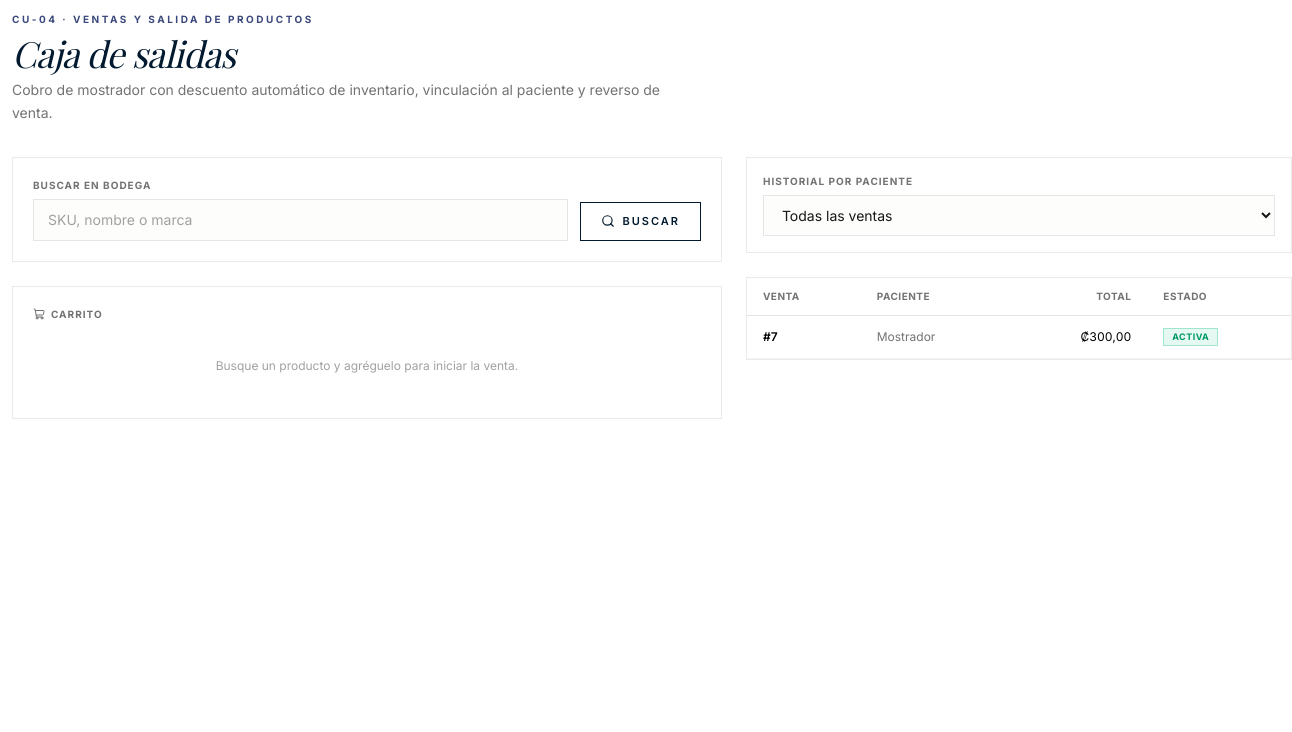
VentasPage › los botones de cantidad suman y restan
Type "ray" into the field labelled "Buscar en bodega" at (300, 220), box [33,198,568,240]
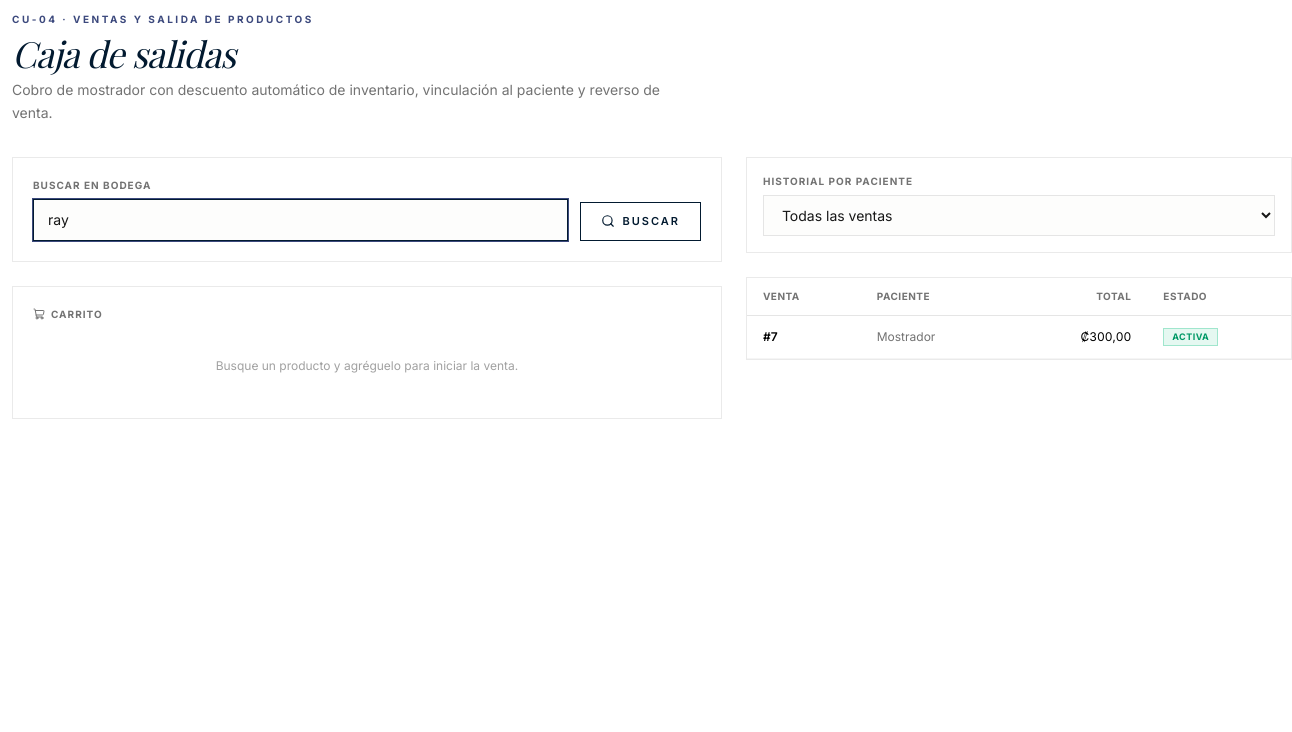
Click the button "Buscar" at (640, 221), box [580,202,701,240]
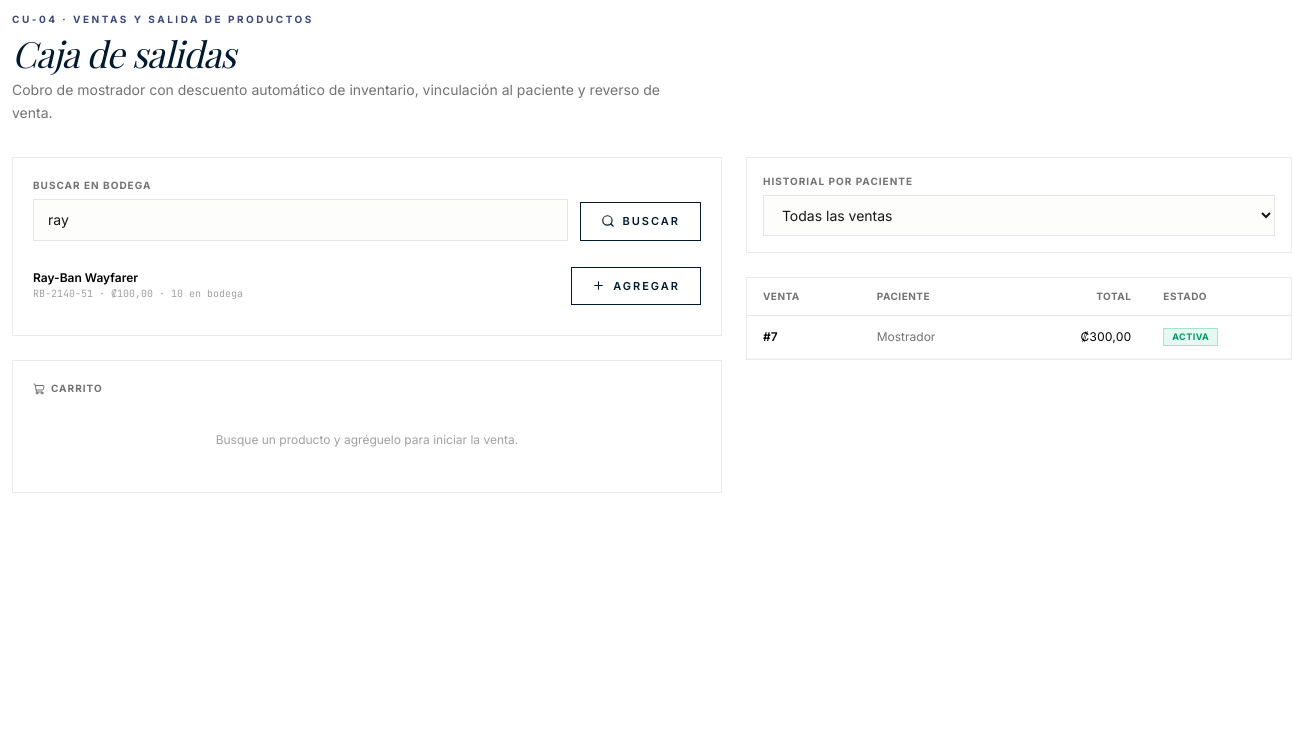
Click the button "Agregar" at (636, 286), box [571,266,701,305]
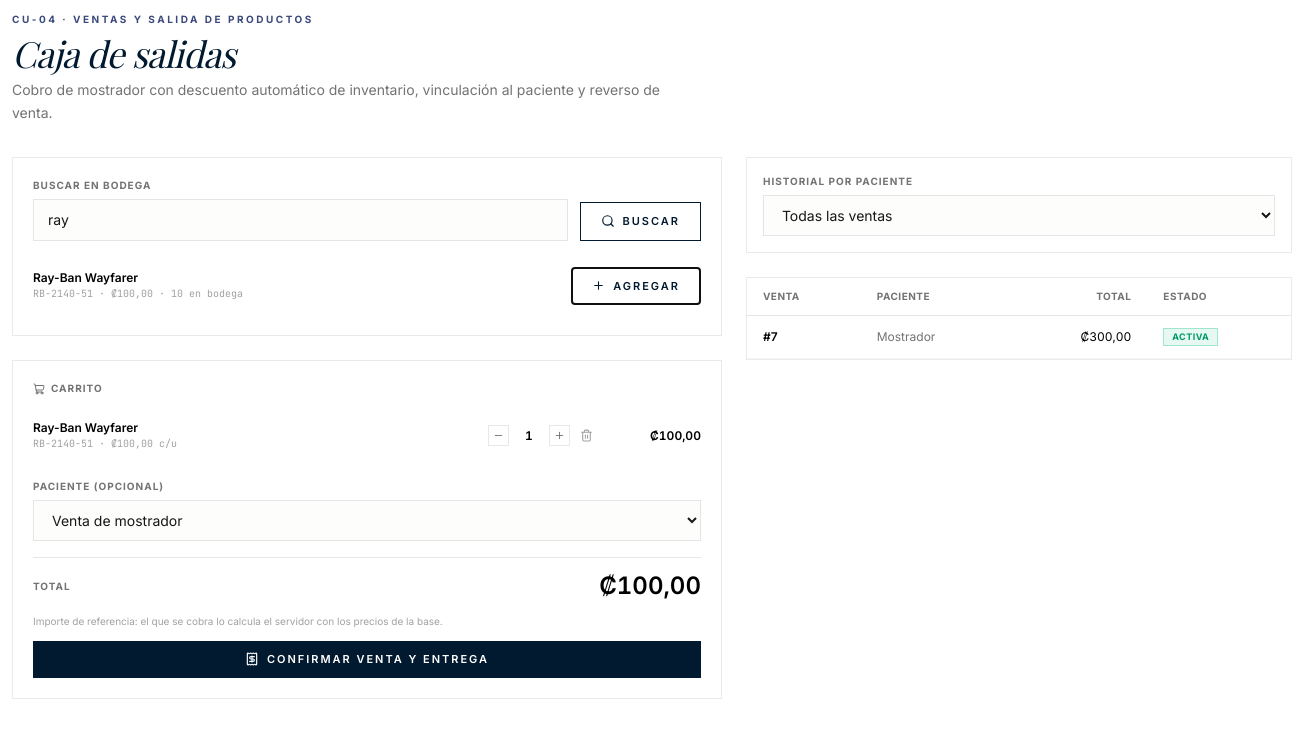
Click the button named "Agregar una unidad" at (559, 436), box [549,425,570,446]
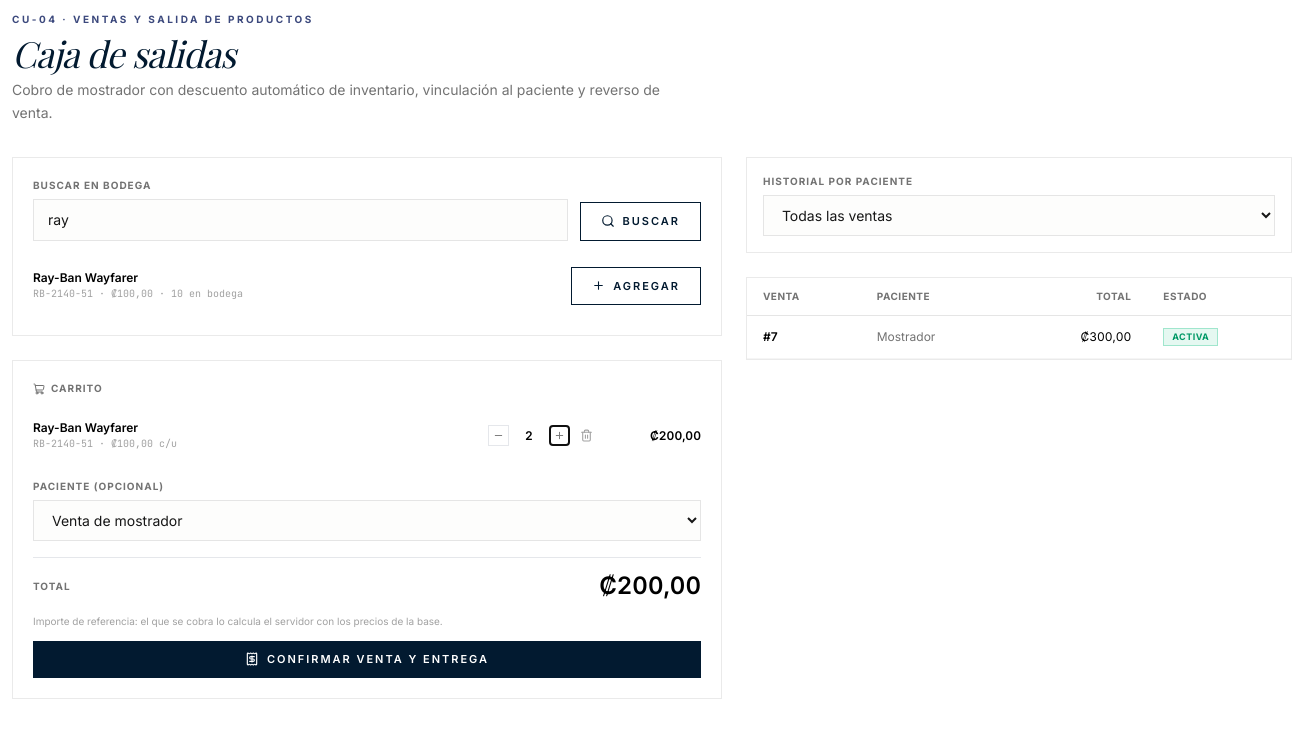
Check: the text "2" is shown, box [525,428,533,442]
Click the button named "Quitar una unidad" at (498, 436), box [488,425,509,446]
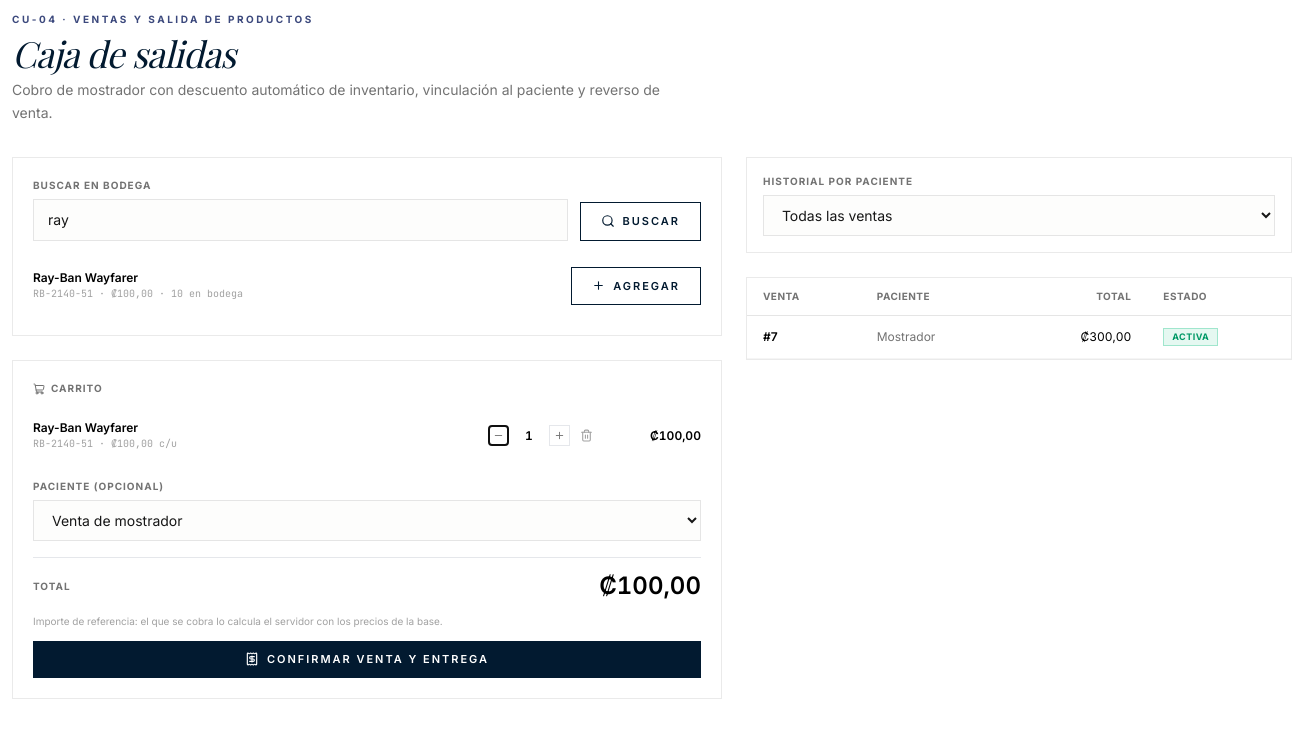
Check: the text "1" is shown, box [525,428,533,442]
